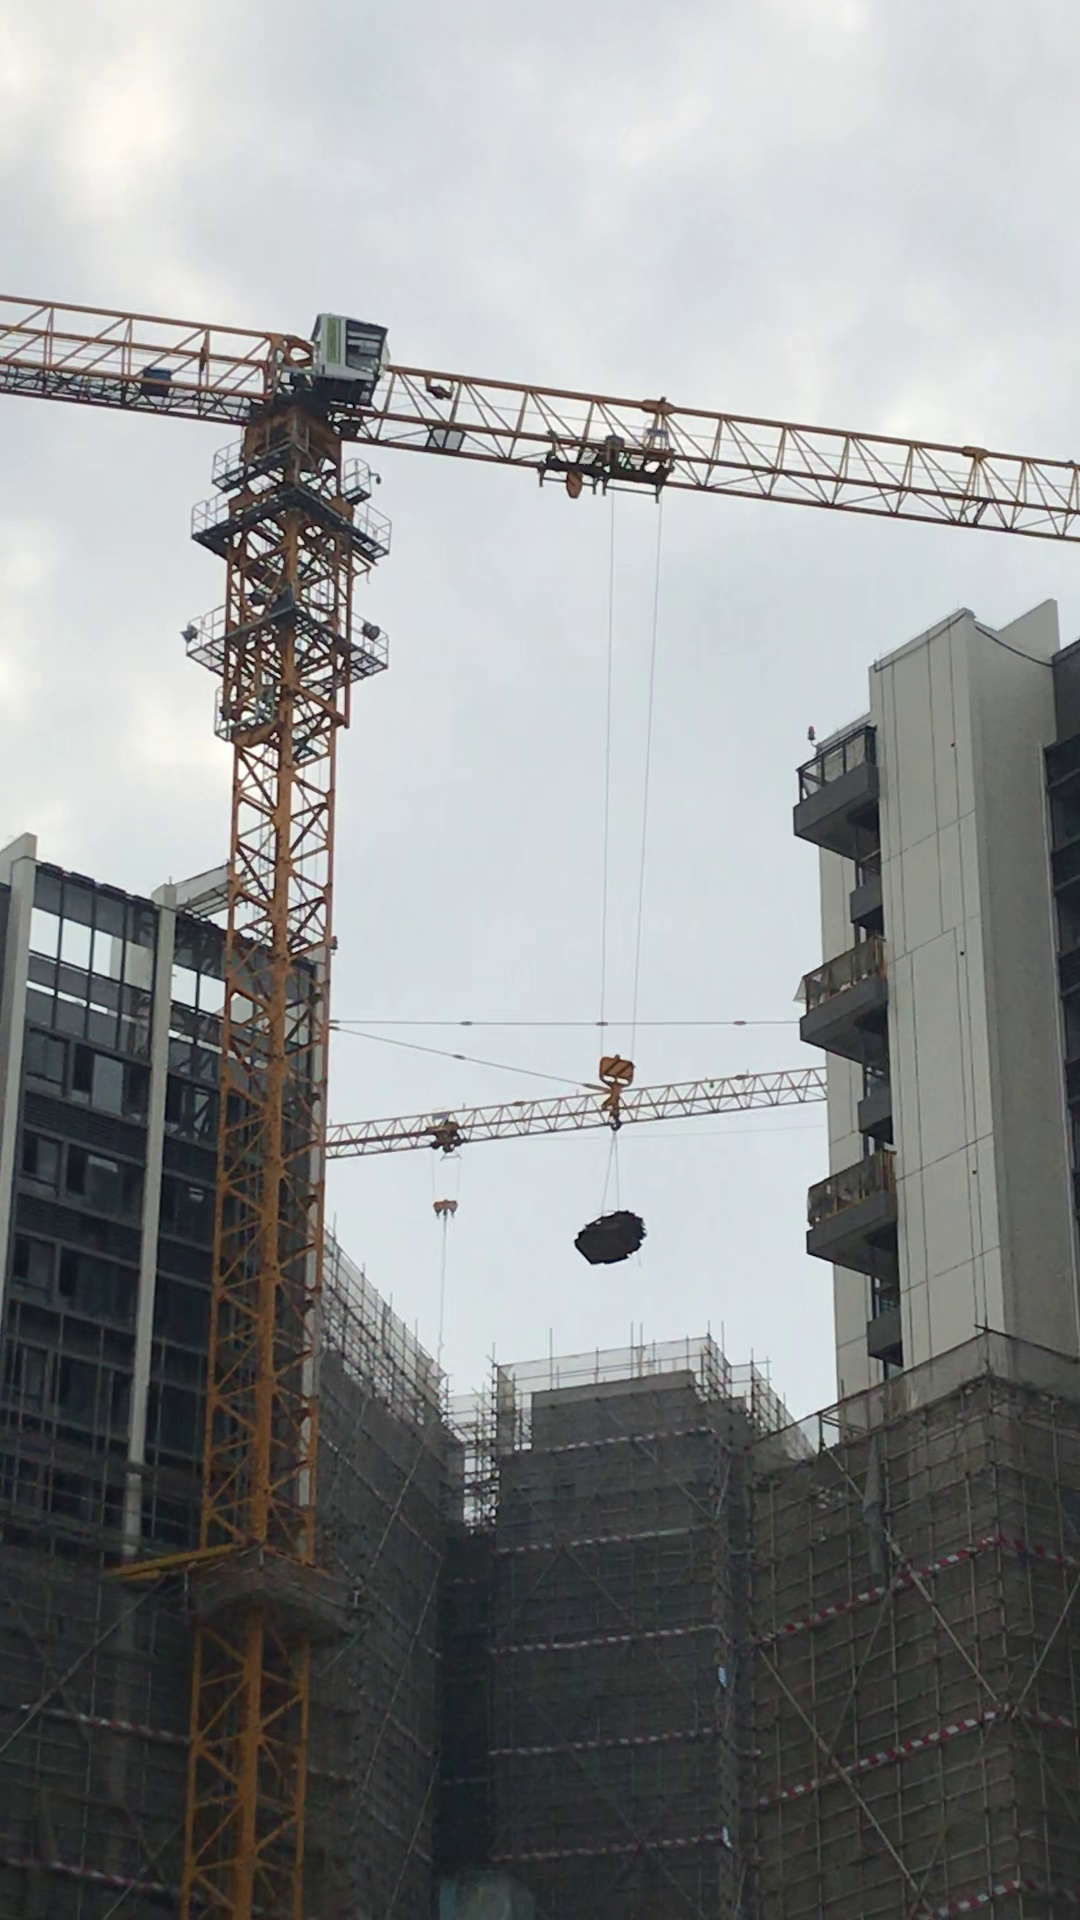board: (568, 1207, 647, 1275)
hook: (585, 1046, 642, 1145), (427, 1180, 473, 1236)
